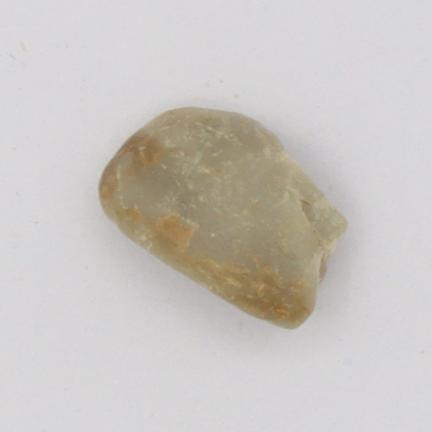cut: (99, 107, 346, 327)
